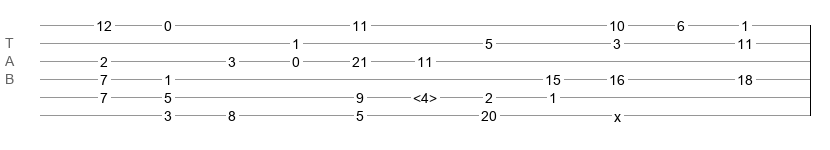0: (164, 18, 172, 28), (292, 54, 300, 64)
1: (164, 72, 172, 82), (292, 36, 300, 46), (549, 90, 557, 100), (741, 18, 749, 28)
10: (609, 18, 625, 28)
11: (352, 18, 368, 28), (417, 54, 433, 64), (737, 36, 753, 46)
12: (96, 18, 112, 28)
15: (545, 72, 561, 82)
16: (609, 72, 625, 82)
18: (737, 72, 753, 82)
2: (100, 54, 108, 64), (485, 90, 493, 100)
20: (481, 108, 497, 118)
21: (352, 54, 368, 64)
3: (164, 108, 172, 118), (228, 54, 236, 64), (613, 36, 621, 46)
5: (164, 90, 172, 100), (356, 108, 364, 118), (485, 36, 493, 46)
6: (677, 18, 685, 28)
7: (100, 72, 108, 82), (100, 90, 108, 100)
8: (228, 108, 236, 118)
9: (356, 90, 364, 100)
harmonic: (413, 90, 437, 100)
x: (614, 109, 621, 117)
